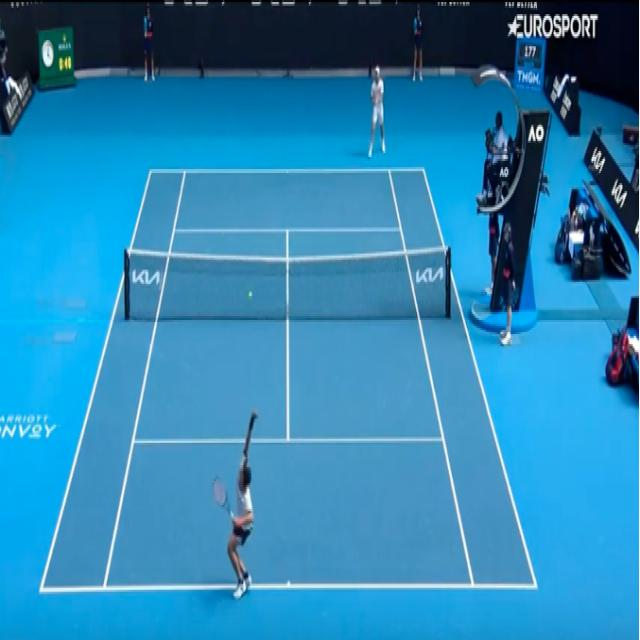ball: (248, 288, 253, 301)
